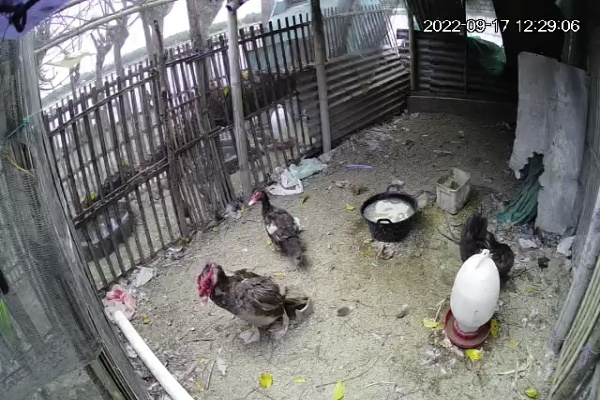Entog: (192, 260, 313, 343), (244, 186, 308, 264)
